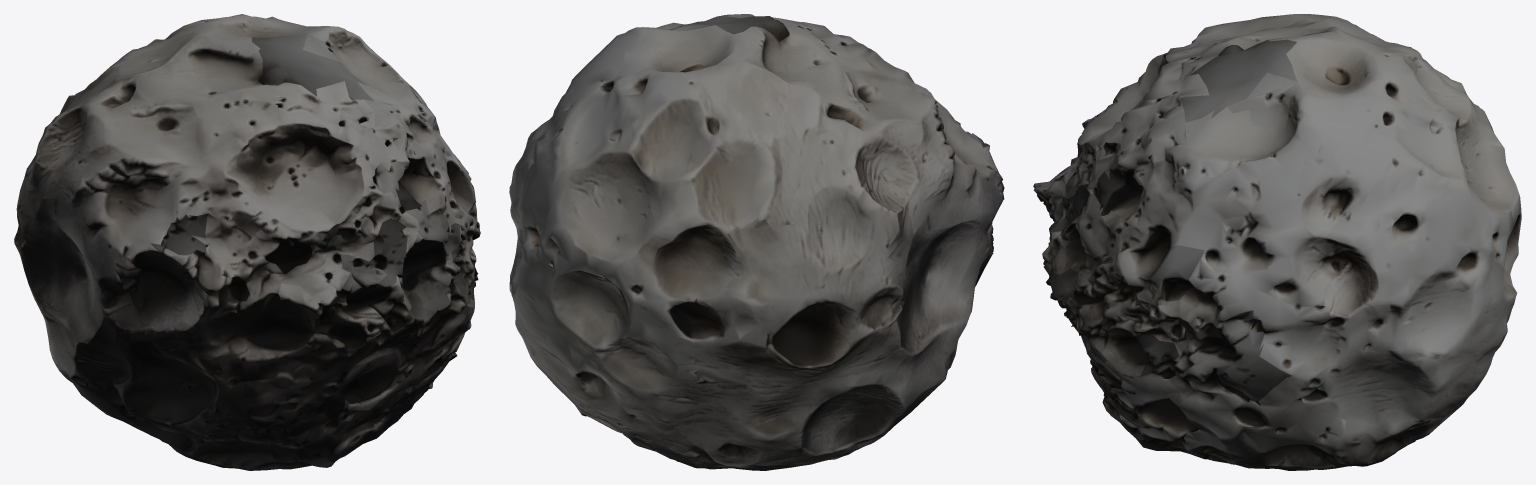
File: asteroide.obj
The picture shows the model from 3 angles, left to right: view 1: azimuth 30°, elevation 25°; view 2: azimuth 150°, elevation 25°; view 3: azimuth 270°, elevation 25°; orthographic projection. The views are drawn at different scales.
Visible parts, largest first — view 1: asteroide; view 2: asteroide; view 3: asteroide.
Part boxes in pixels (<box>): asteroide: <box>14,14,480,470</box>; asteroide: <box>509,14,1004,470</box>; asteroide: <box>1033,14,1521,470</box>.
Size of the model in its own units: 1.22 by 1.19 by 1.27.
